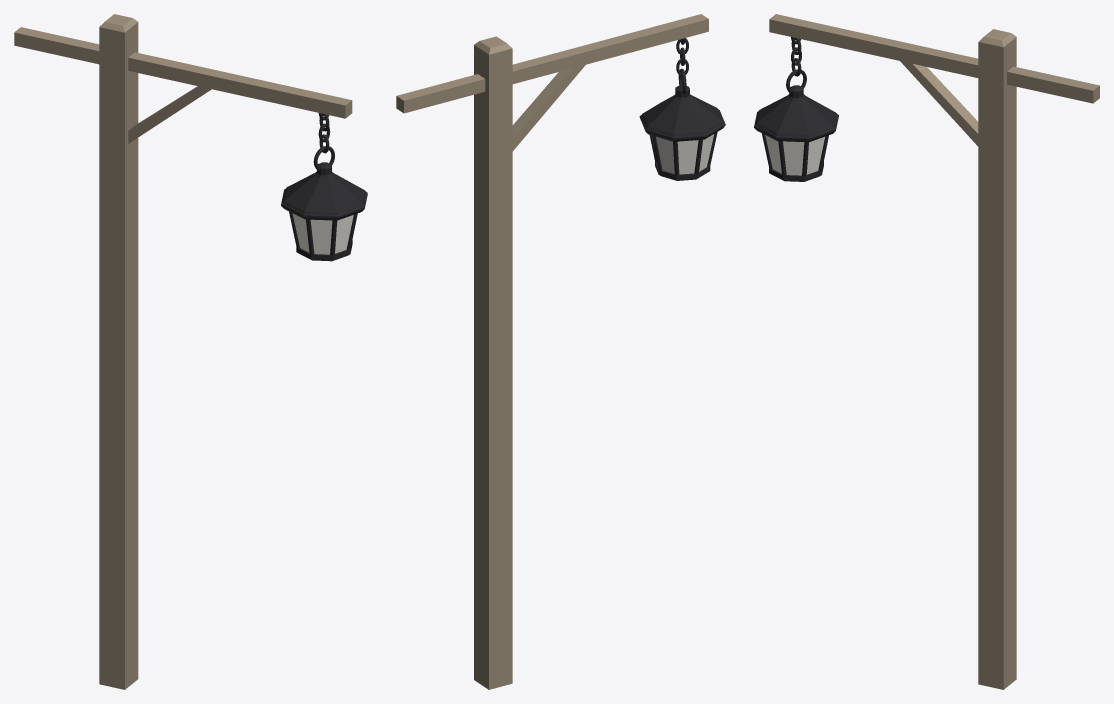
The model's file is lamp.fbx.
3 renders of one model, left to right at view 1: azimuth 90°, elevation 25°; view 2: azimuth 150°, elevation 25°; view 3: azimuth 270°, elevation 25°, orthographic. The views are drawn at different scales.
Visible parts, largest first — view 1: Lamp post, Lamp post.002; view 2: Lamp post, Lamp post.002; view 3: Lamp post, Lamp post.002.
Boxes of the visible parts, x1,y1,x2,y2 form: Lamp post: [14, 14, 367, 689]; Lamp post.002: [292, 213, 353, 254]; Lamp post: [396, 14, 725, 689]; Lamp post.002: [651, 134, 714, 174]; Lamp post: [754, 14, 1099, 689]; Lamp post.002: [765, 135, 824, 175].
Size of the model in its own units: 1346 by 4679 by 2266.
